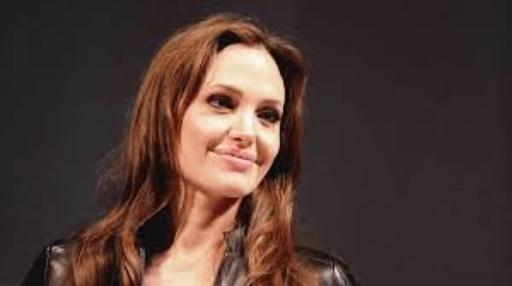left_eye: (257, 112, 288, 125)
left_lip_corner: (249, 156, 259, 167)
right_eye: (201, 96, 238, 114)
right_lip_corner: (213, 147, 224, 160)
